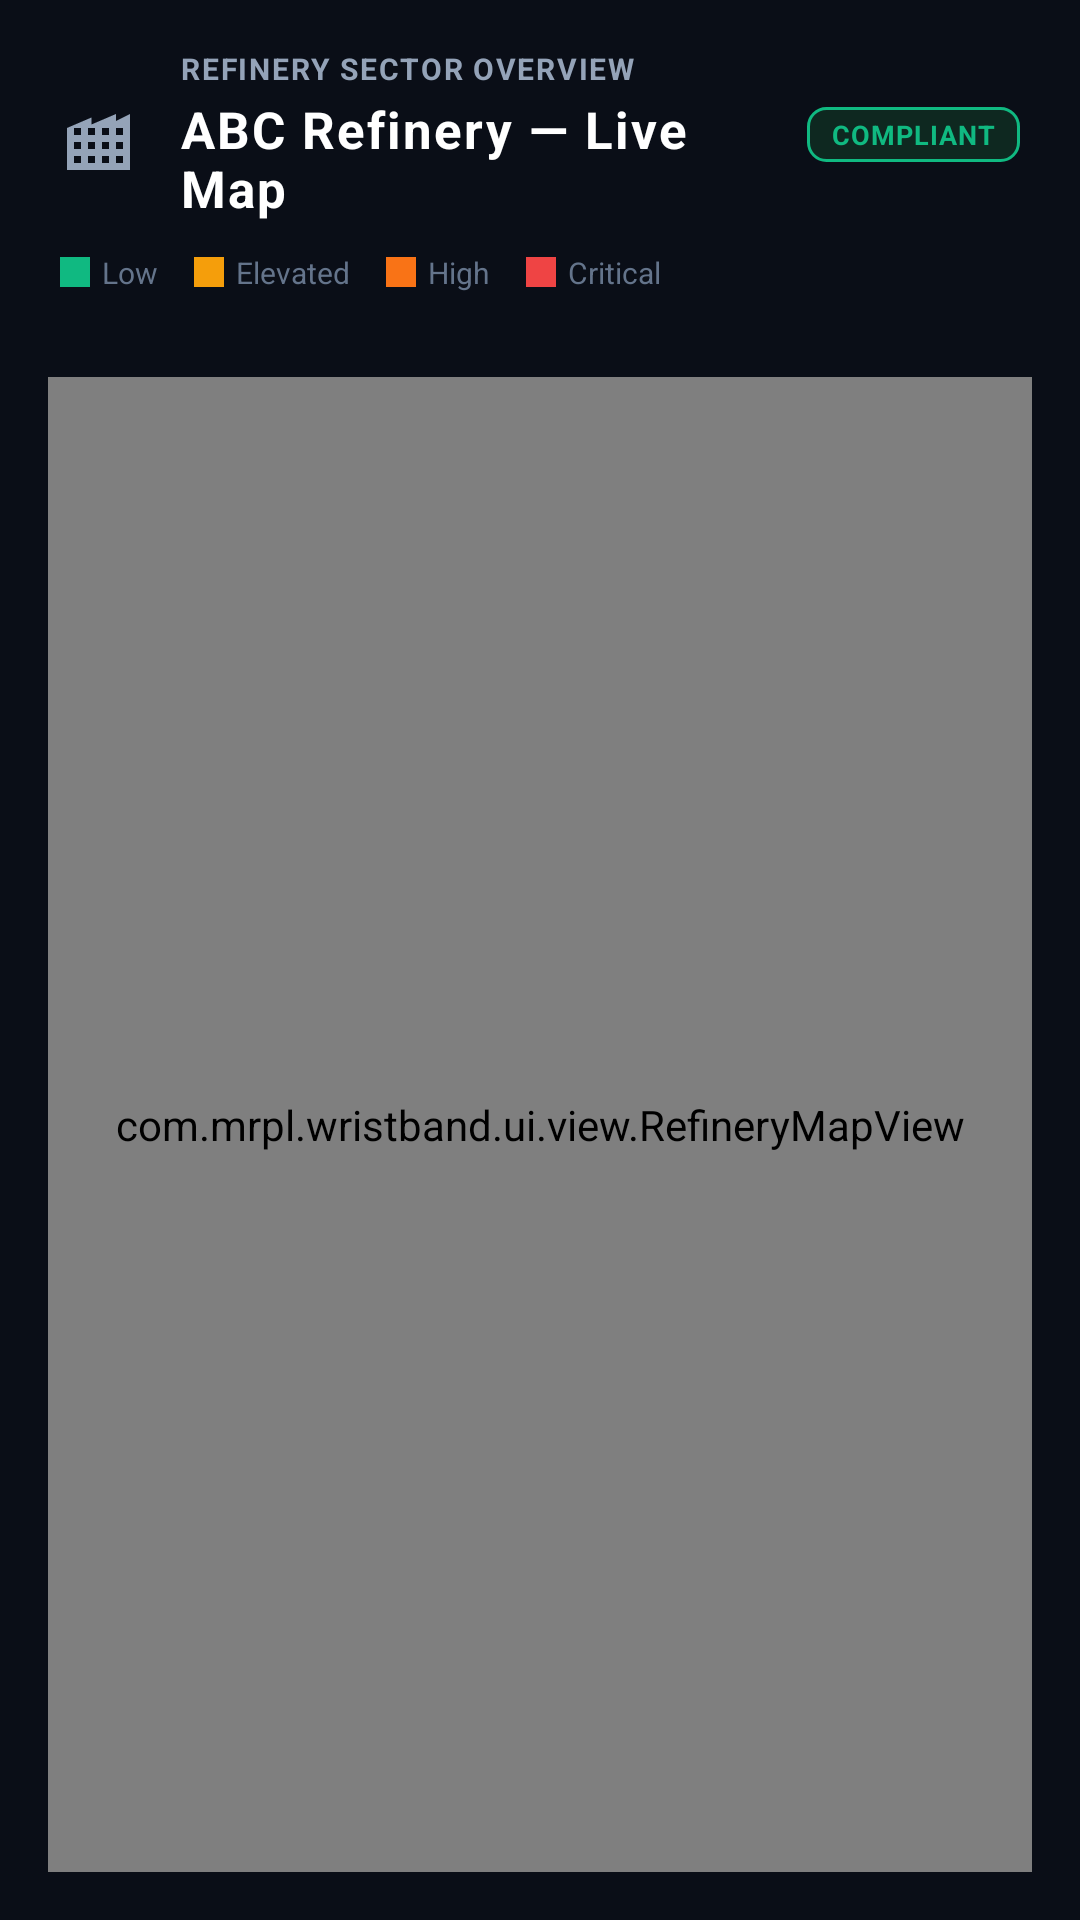

Point at icon controls on the screen. Image size 1080w x 1920h, points as (x,y).
factory refinery: (98,142)
